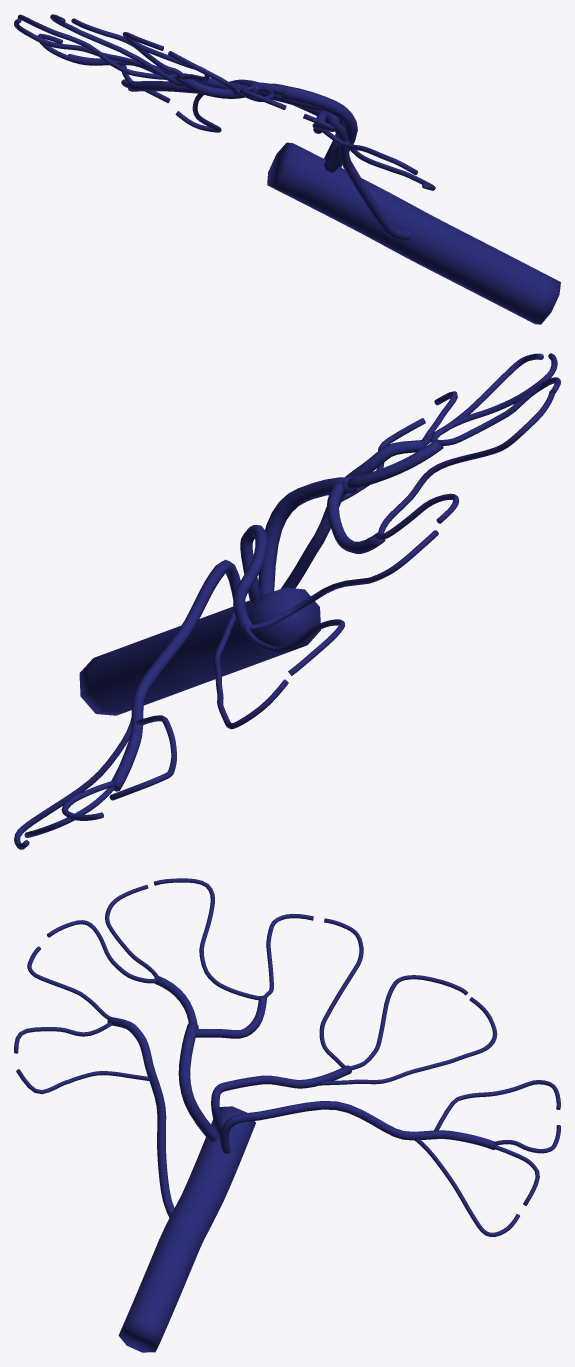
The model's file is renal-vein.obj.
3 views of the same model, one above another, from view 1: azimuth 30°, elevation 25°; view 2: azimuth 150°, elevation 25°; view 3: azimuth 270°, elevation 25° (orthographic). The views are drawn at different scales.
Parts seen in each view (by area): view 1: renal-vein_Model::org.ren-ven.r; view 2: renal-vein_Model::org.ren-ven.r; view 3: renal-vein_Model::org.ren-ven.r.
Part boxes in pixels (x1,y1,x2,y2): renal-vein_Model::org.ren-ven.r: [14, 14, 560, 324]; renal-vein_Model::org.ren-ven.r: [14, 353, 560, 849]; renal-vein_Model::org.ren-ven.r: [14, 878, 560, 1352].
Size of the model in its own units: 5.41 by 4.66 by 7.31.
